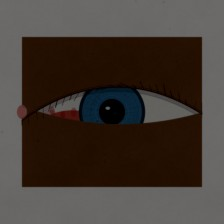hemorrhage_spot: (34, 92, 110, 153)
